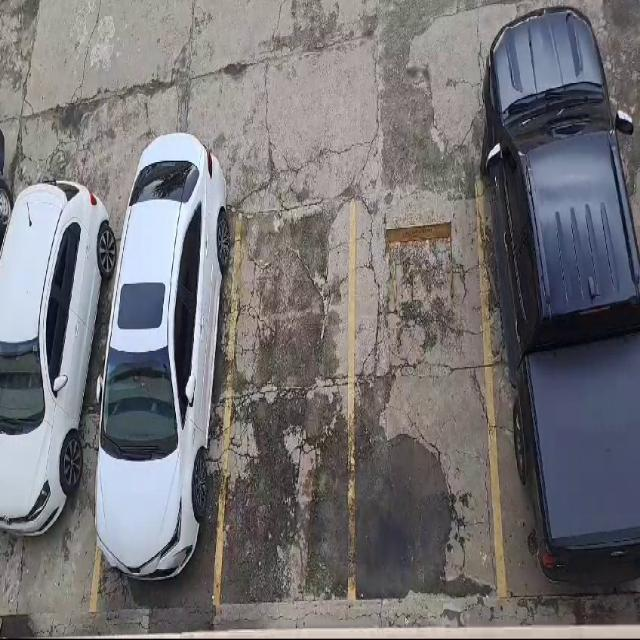empty: (350, 190, 502, 593), (216, 199, 352, 608)
notEmpty: (479, 162, 638, 596), (93, 212, 238, 606), (1, 230, 127, 609)
